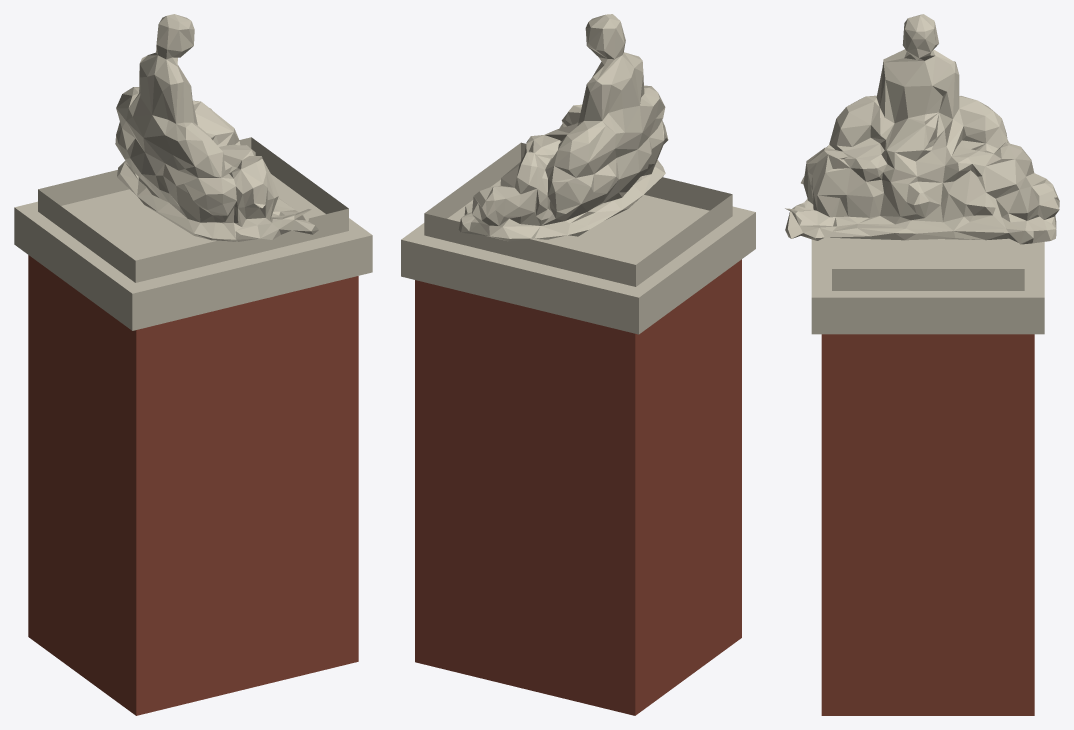
Rendered from kinderbrug-jongen-konijnen.lod1.glb.
3 renders of one model, left to right at view 1: azimuth 30°, elevation 25°; view 2: azimuth 150°, elevation 25°; view 3: azimuth 270°, elevation 25°, orthographic.
Visible parts, largest first — view 1: kinderbrug-jongen-konijnen; view 2: kinderbrug-jongen-konijnen; view 3: kinderbrug-jongen-konijnen.
Part boxes in pixels (x1=…): kinderbrug-jongen-konijnen: x1=14, y1=14, x2=372, y2=715; kinderbrug-jongen-konijnen: x1=401, y1=14, x2=755, y2=715; kinderbrug-jongen-konijnen: x1=785, y1=14, x2=1059, y2=715.
Bounding box in the file's own units: 1.35 × 3.46 × 1.36.
